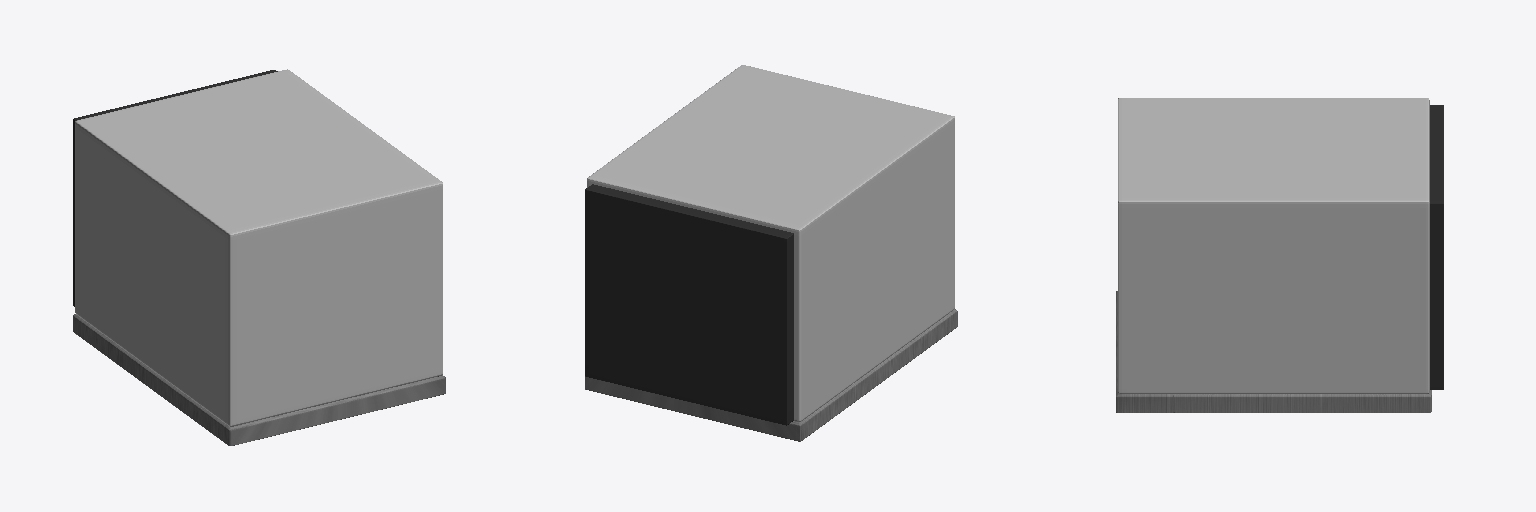
The picture shows the model from 3 angles: view 1: azimuth 30°, elevation 25°; view 2: azimuth 150°, elevation 25°; view 3: azimuth 270°, elevation 25°; orthographic projection.
Visible parts, largest first — view 1: Diswasher_body, Diswasher_door, Diswasher_stand; view 2: Diswasher_body, Diswasher_stand, Diswasher_door; view 3: Diswasher_body, Diswasher_door, Diswasher_stand.
Part boxes in pixels (bbox=[...]): Diswasher_body: bbox=[75, 69, 442, 426]; Diswasher_door: bbox=[73, 314, 445, 445]; Diswasher_stand: bbox=[73, 70, 277, 306]; Diswasher_body: bbox=[587, 65, 954, 421]; Diswasher_stand: bbox=[585, 184, 793, 425]; Diswasher_door: bbox=[585, 309, 957, 441]; Diswasher_body: bbox=[1118, 98, 1429, 393]; Diswasher_door: bbox=[1116, 291, 1431, 412]; Diswasher_stand: bbox=[1430, 105, 1443, 389].
Bounding box in the file's own units: 25.66 × 24.18 × 33.7.
Materials: 4 (1 with a texture image).